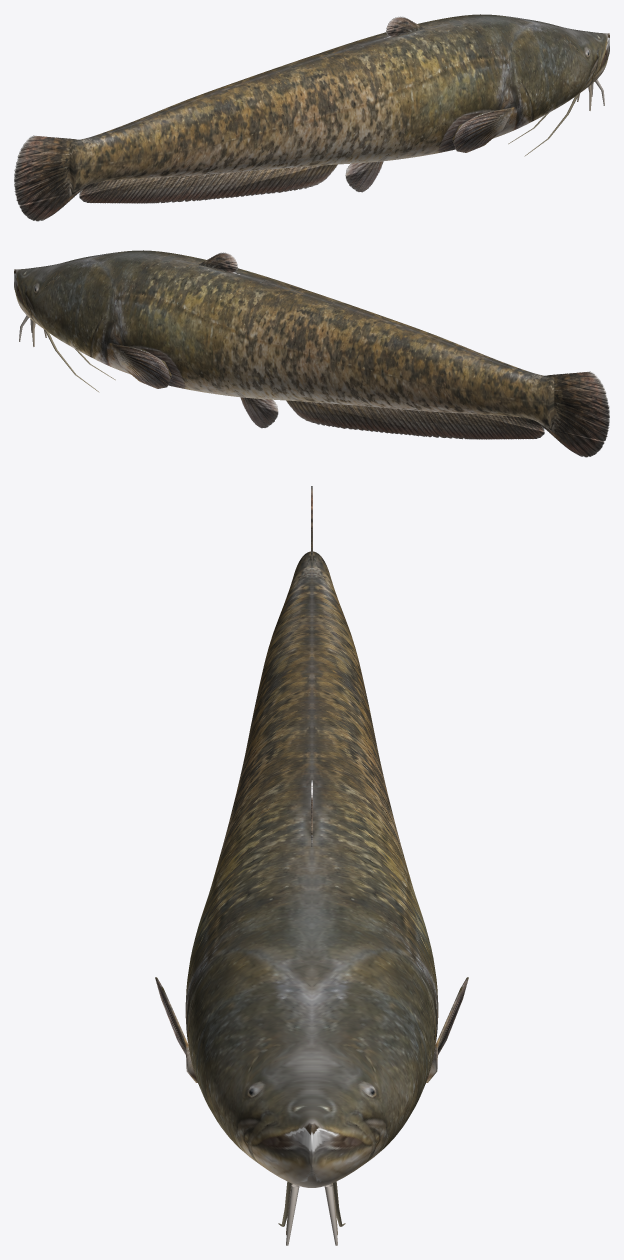
File: wels_catfish.glb
The picture shows the model from 3 angles, top to bottom: view 1: azimuth 30°, elevation 25°; view 2: azimuth 150°, elevation 25°; view 3: azimuth 270°, elevation 25°; orthographic projection. The views are drawn at different scales.
Visible parts, largest first — view 1: wels_catfish_realistic; view 2: wels_catfish_realistic; view 3: wels_catfish_realistic.
Boxes of the visible parts, <box> form: wels_catfish_realistic: <box>14,14,609,221</box>; wels_catfish_realistic: <box>14,250,609,457</box>; wels_catfish_realistic: <box>155,486,468,1245</box>.
Bounding box in the file's own units: 1 × 0.2668 × 0.2282.
3 materials, 3 textured.
